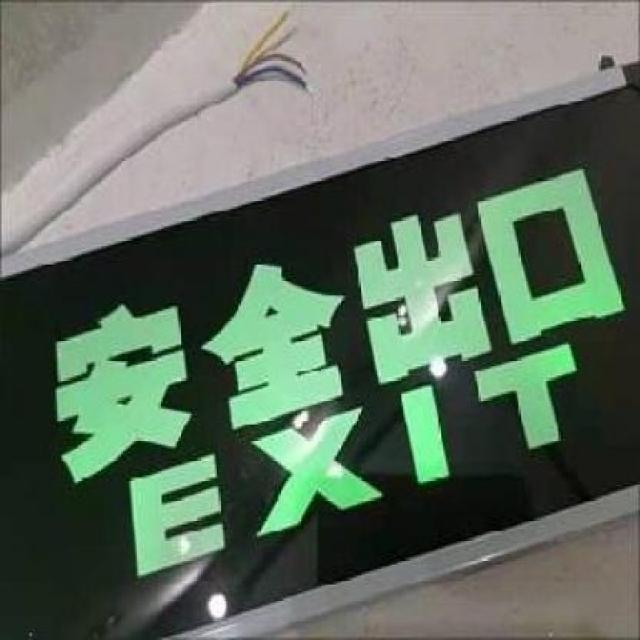exit_sign: (12, 203, 640, 629)
